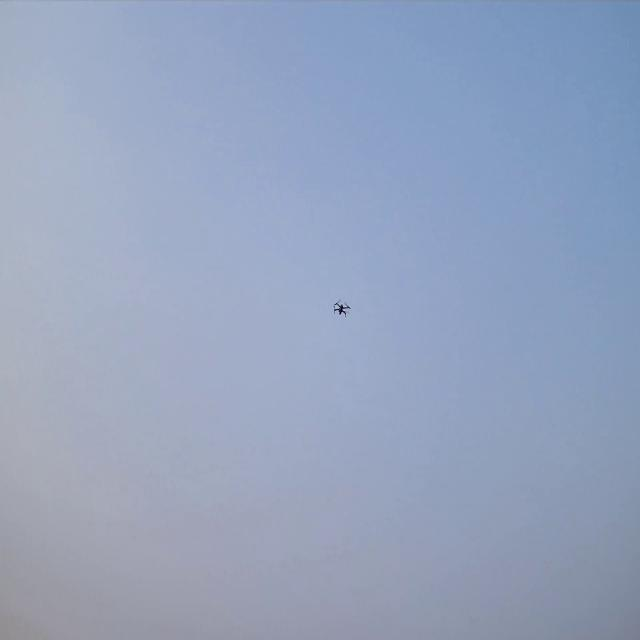UAV: (332, 295, 353, 321)
